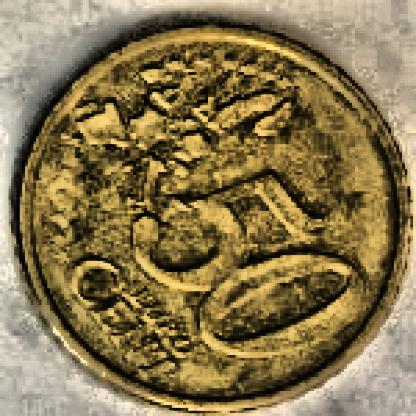coin: (16, 19, 411, 412)
